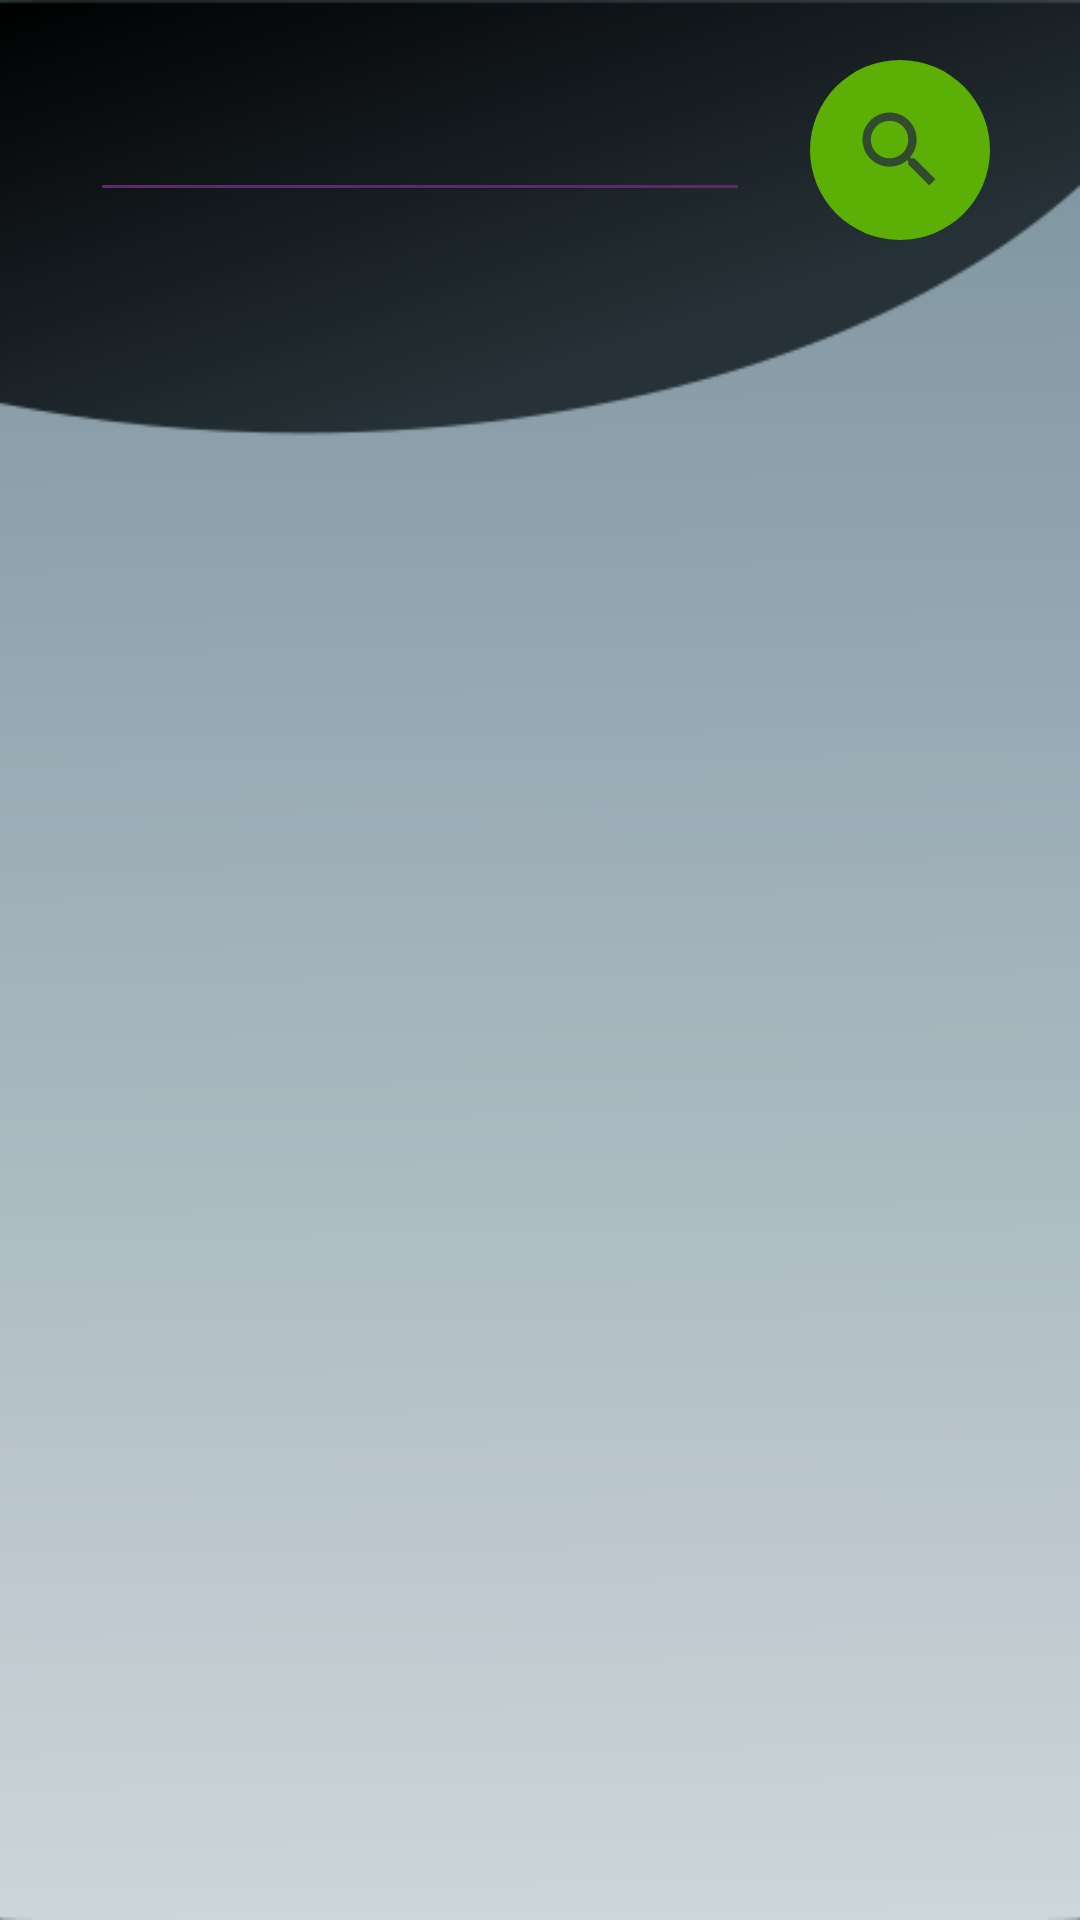

Where icons sit on this 1080w x 1920h app screen, as (x1, y1, x2, y2):
Search: (810, 60, 990, 240)
